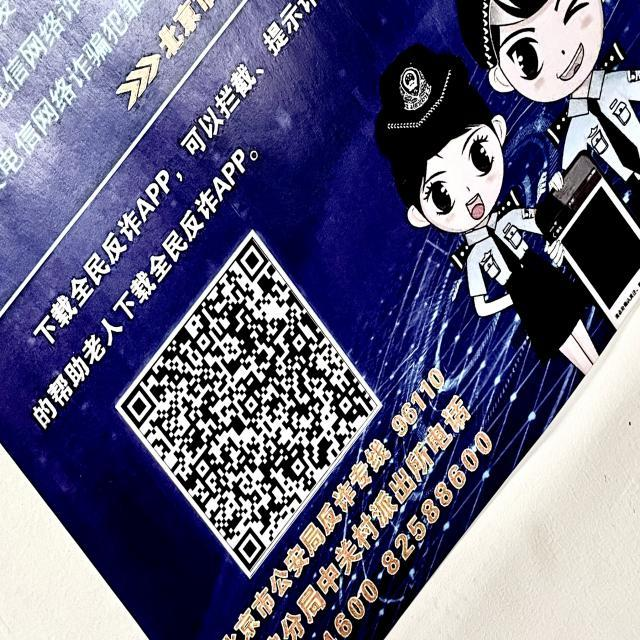qr_code: (120, 237, 378, 574)
